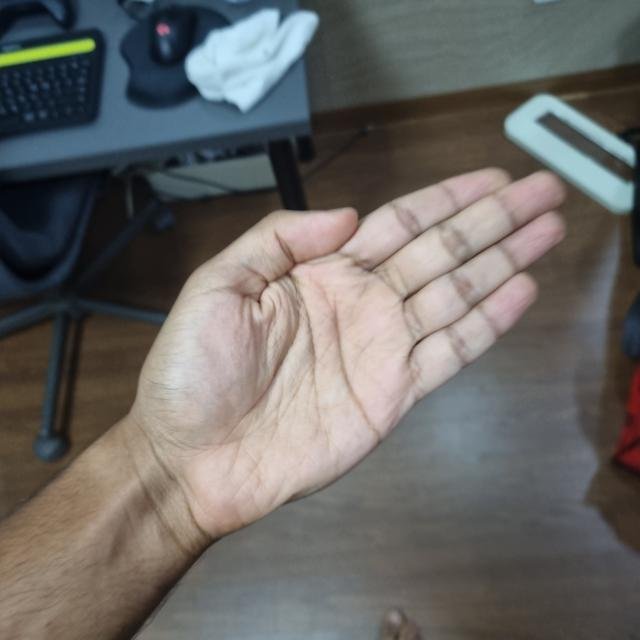Paper: (143, 167, 572, 524)
